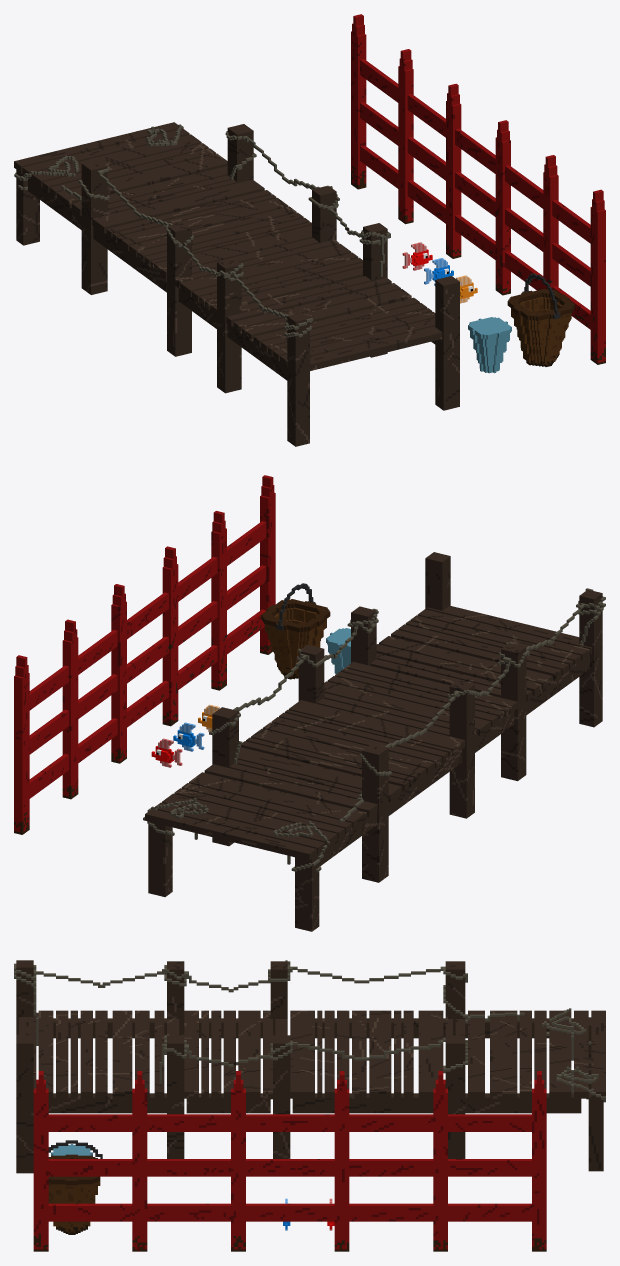
The model's file is fishing equipment.fbx.
3 renders of one model, top to bottom at view 1: azimuth 30°, elevation 25°; view 2: azimuth 150°, elevation 25°; view 3: azimuth 270°, elevation 25°, orthographic. The views are drawn at different scales.
Visible parts, largest first — view 1: tahta yol, cit, kova, water; view 2: tahta yol, cit, kova, water; view 3: tahta yol, cit, kova.
Part boxes in pixels (x1,y1,x2,y2): tahta yol: [14, 122, 459, 446]; cit: [351, 14, 605, 364]; kova: [507, 273, 574, 366]; water: [468, 317, 511, 373]; tahta yol: [143, 552, 605, 931]; cit: [14, 475, 275, 834]; kova: [261, 583, 330, 679]; water: [326, 628, 350, 673]; tahta yol: [14, 960, 605, 1173]; cit: [33, 1071, 546, 1251]; kova: [48, 1140, 102, 1234].
Bounding box in the file's own units: 1560 × 790 × 2400.
1 material, 1 textured.
